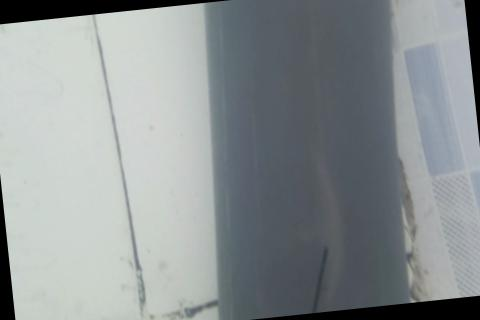keretakan: (298, 242, 335, 314)
